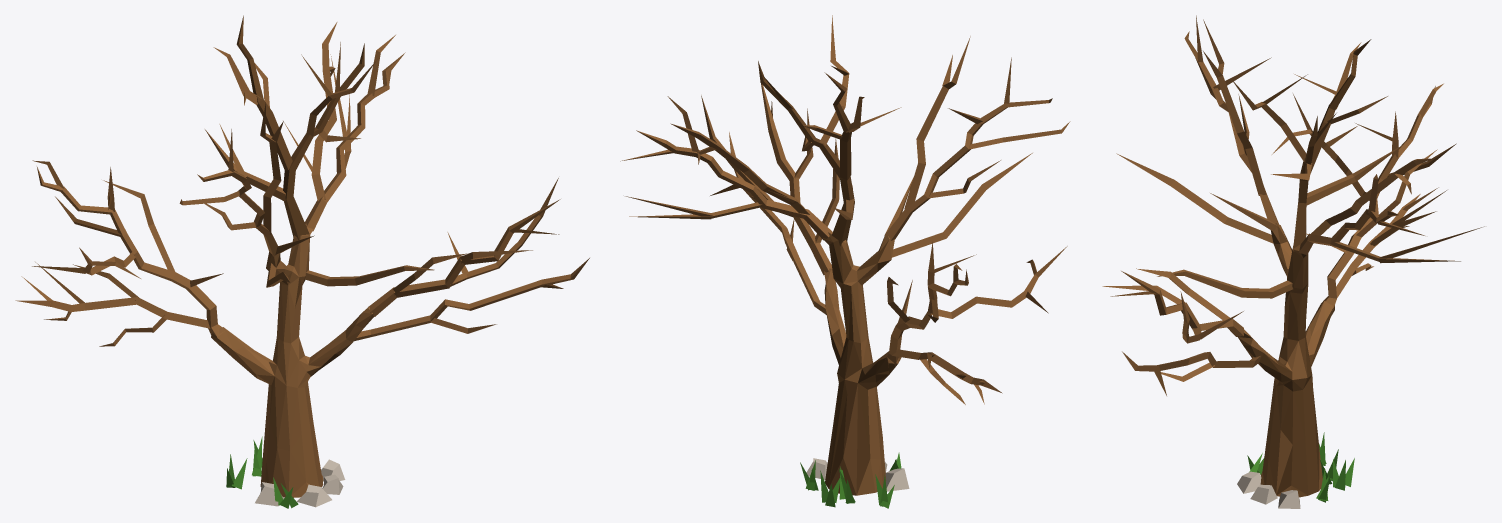
The model's file is elm_3_bare.glb.
3 renders of one model, left to right at view 1: azimuth 30°, elevation 25°; view 2: azimuth 150°, elevation 25°; view 3: azimuth 270°, elevation 25°, orthographic.
Parts seen in each view (by area): view 1: elm_3_bare; view 2: elm_3_bare; view 3: elm_3_bare.
Boxes of the visible parts, box(x1,y1,x2,y2) form: elm_3_bare: box(15, 15, 589, 508); elm_3_bare: box(620, 15, 1070, 508); elm_3_bare: box(1102, 15, 1484, 508).
Bounding box in the file's own units: 6.38 × 6.18 × 4.88.
